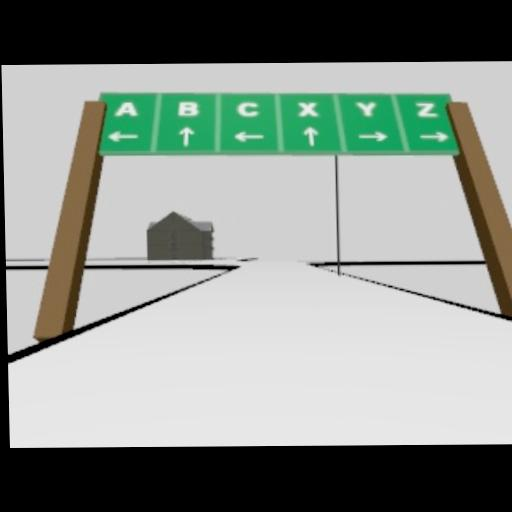A: (113, 98, 138, 114)
B: (178, 100, 197, 114)
C: (236, 99, 259, 115)
Left: (232, 130, 264, 141), (105, 130, 137, 141)
Right: (418, 130, 448, 141), (357, 130, 389, 140)
Straight: (301, 124, 321, 145), (179, 125, 195, 144)
X: (297, 101, 318, 115)
Y: (355, 100, 376, 114)
Z: (414, 100, 437, 116)
